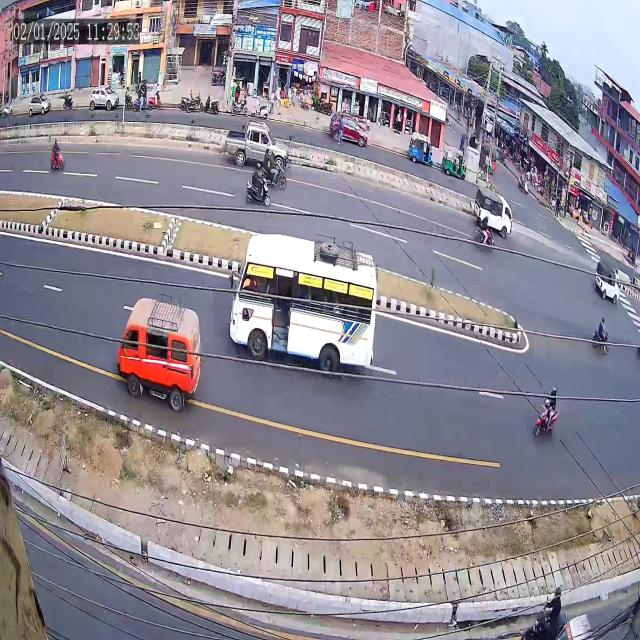bus: (215, 222, 382, 402)
motorcycle: (520, 372, 563, 446), (240, 161, 276, 210), (583, 309, 613, 366), (38, 130, 68, 179)
van: (97, 274, 207, 424), (468, 179, 519, 244), (589, 250, 623, 310)
